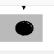correct: (12, 20, 36, 36)
